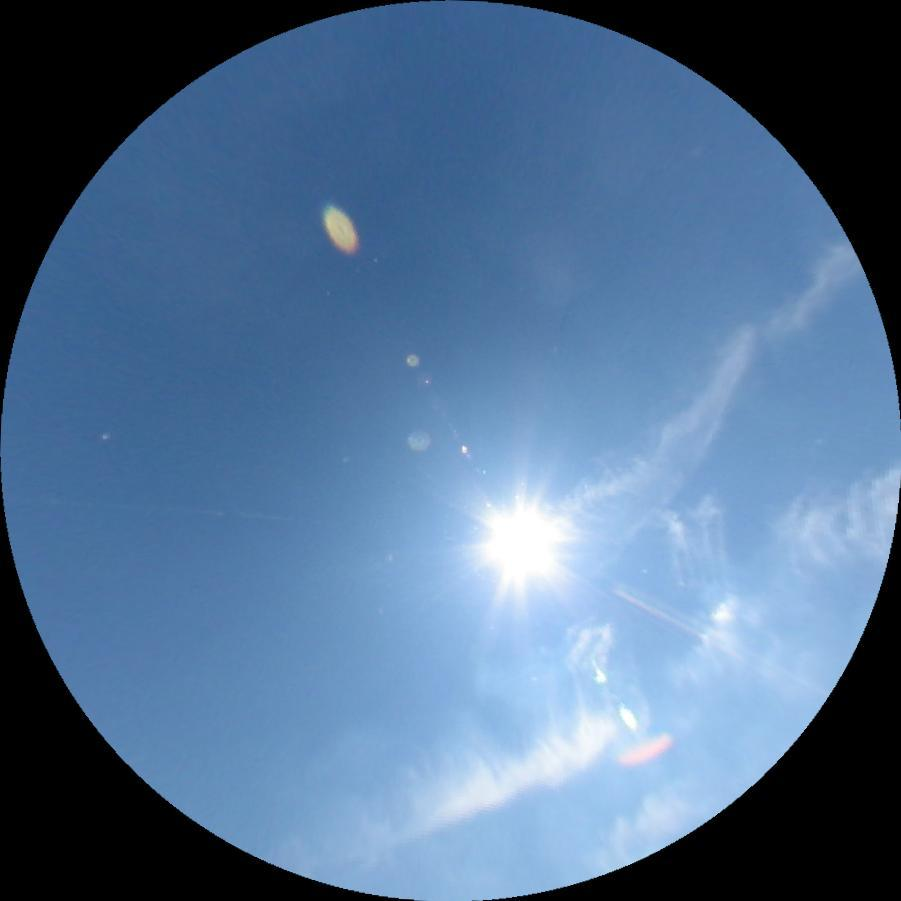contrail veryold: (510, 234, 895, 611)
parasite: (607, 580, 706, 643)
sun: (476, 498, 565, 590)
